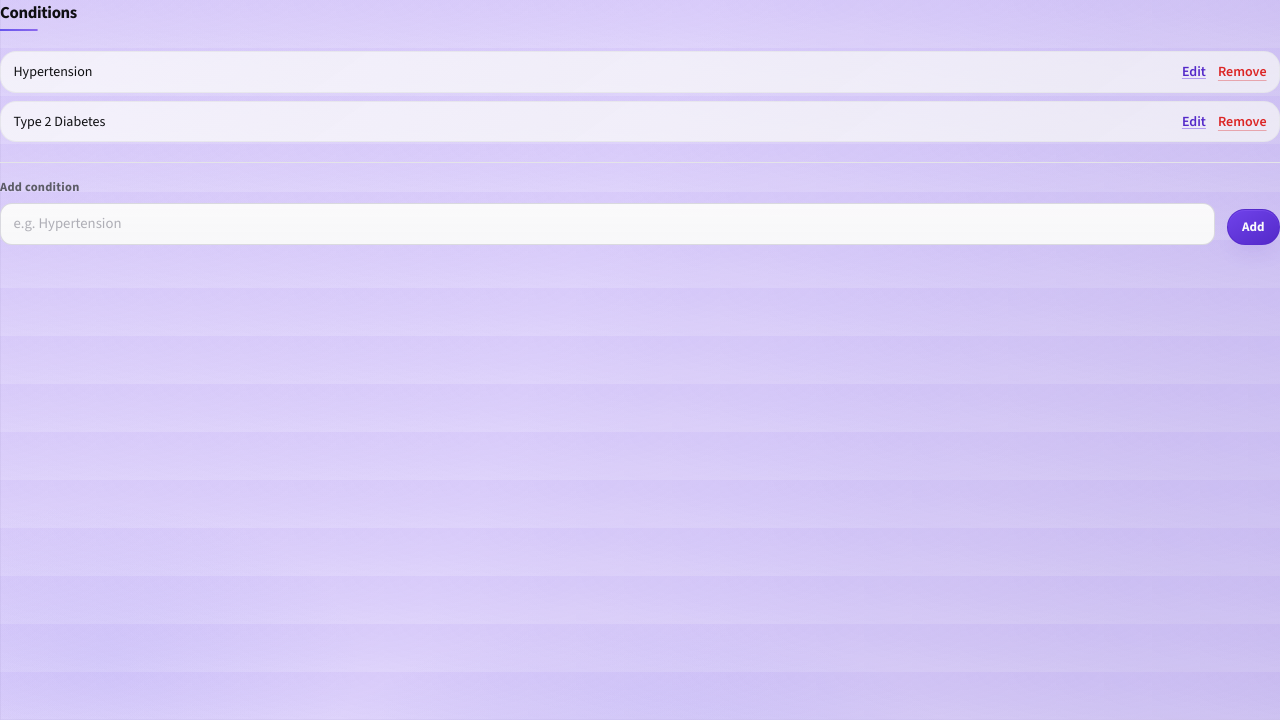
Scenario: ConditionsTab › Cancel edit returns to read-only without saving
Expected: the text "Hypertension" is shown, [14,62,92,81]
Click the button "Edit" in the row of "Hypertension": click(1194, 72) [1182,62,1206,82]
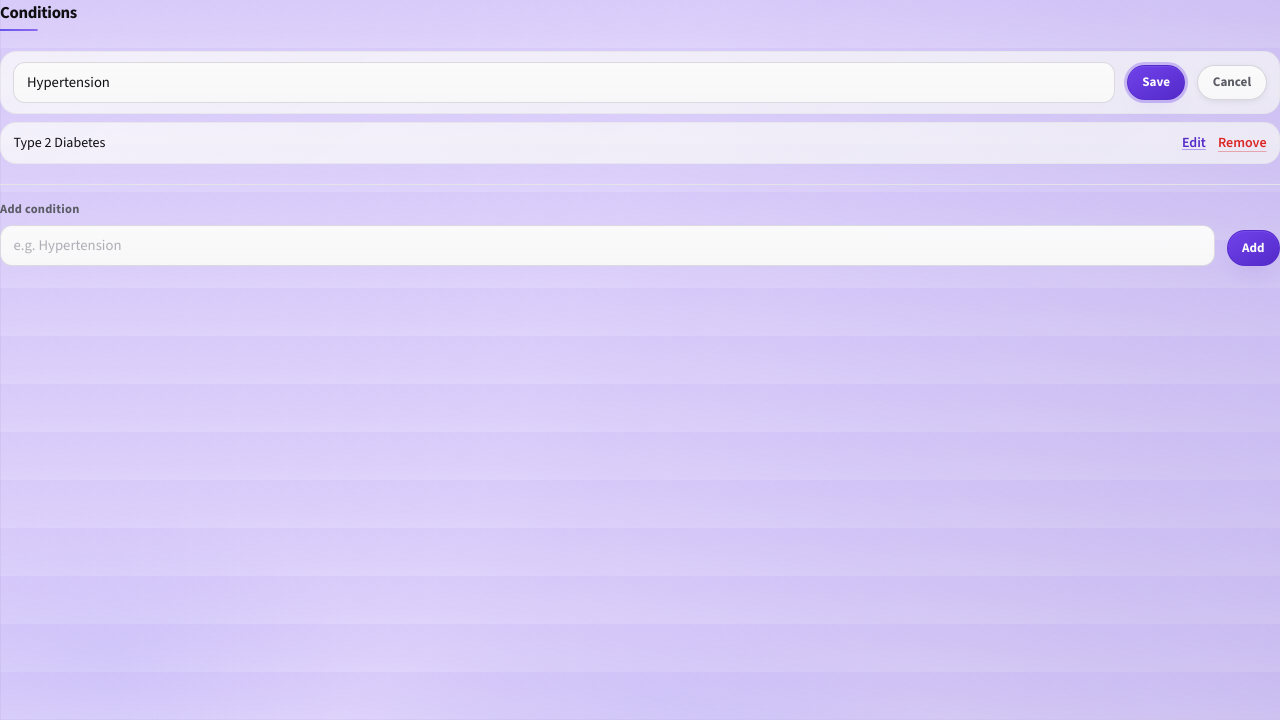
Click the button "Cancel": click(1232, 82) [1197,65,1266,100]
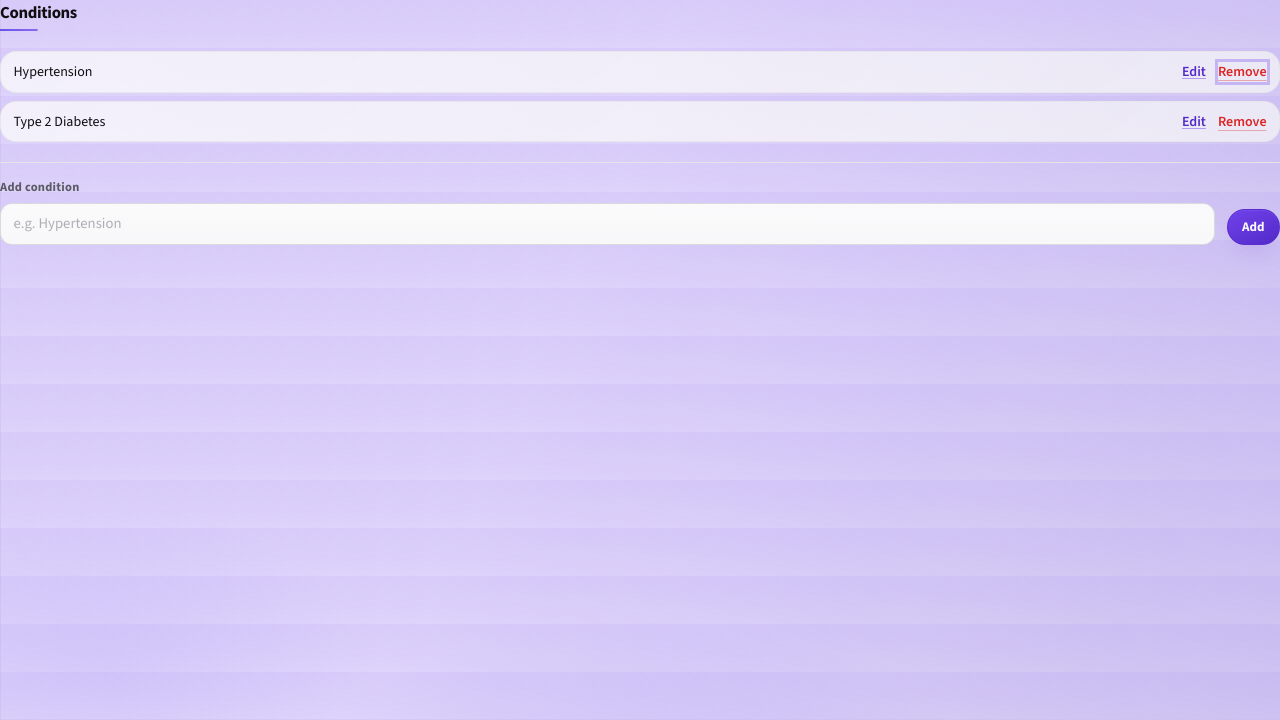
Expected: the text "Hypertension" is shown, [14,62,92,81]
